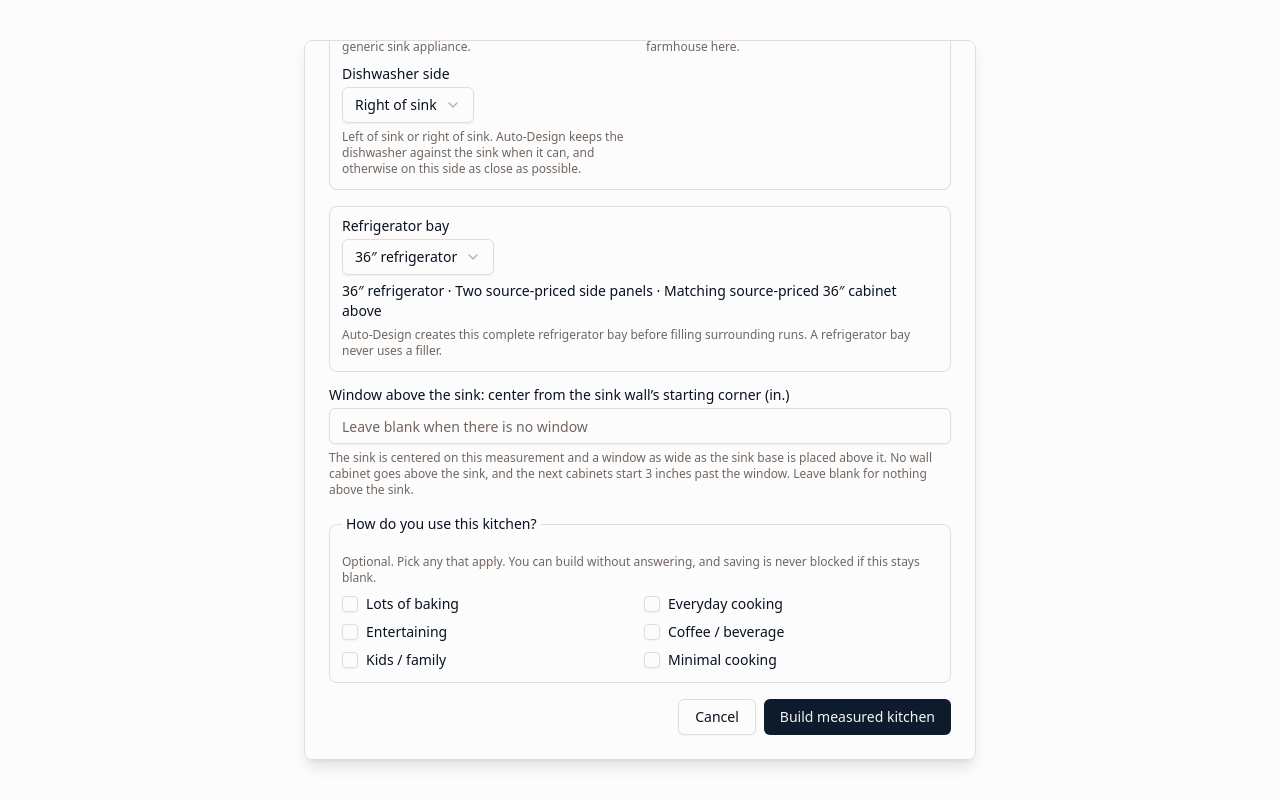
Test: AutoDesignDialog › keeps a failed submit visible in the dialog with its exact blocker rather than appearing inert
(page scrolled)
Click the button with test id "auto-design-build-submit" at {"x": 857, "y": 717}, box [764,699,951,735]
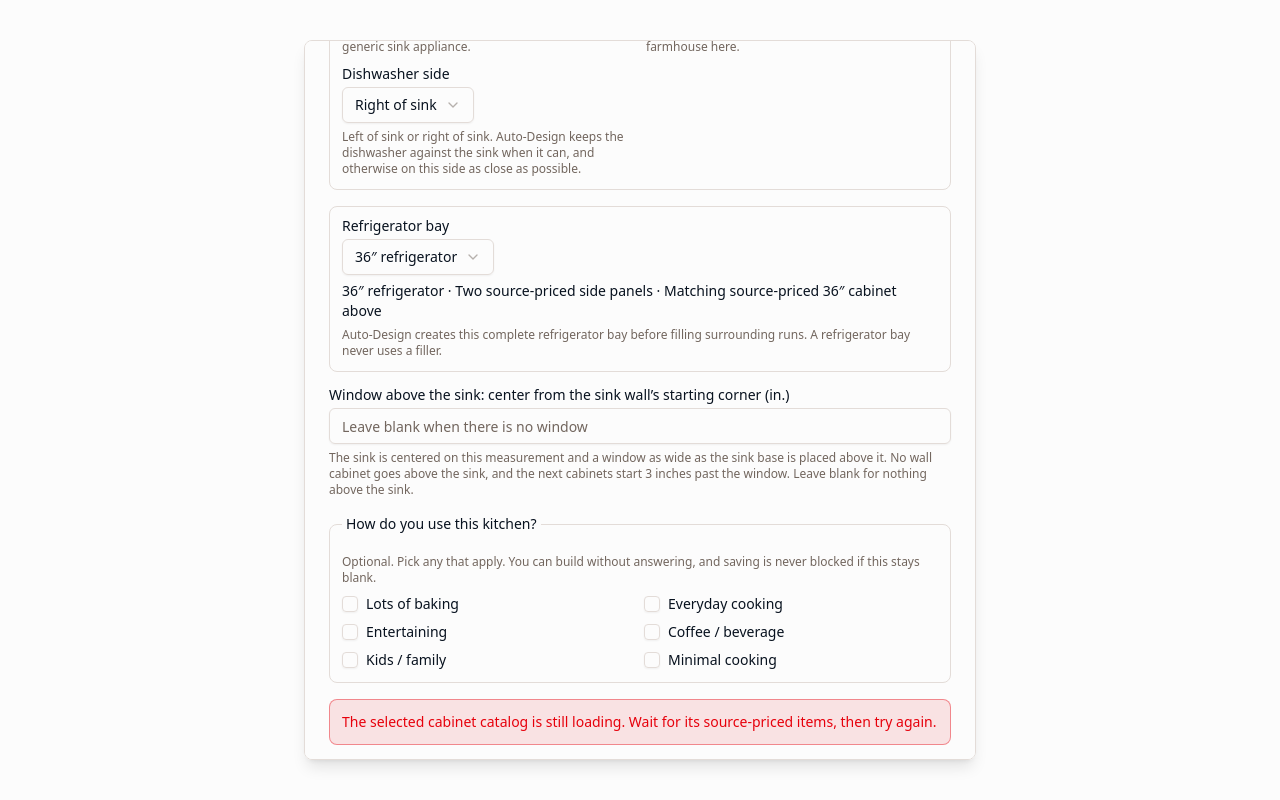
Check: the message shows "selected cabinet catalog is still loading", box [342,712,936,731]
